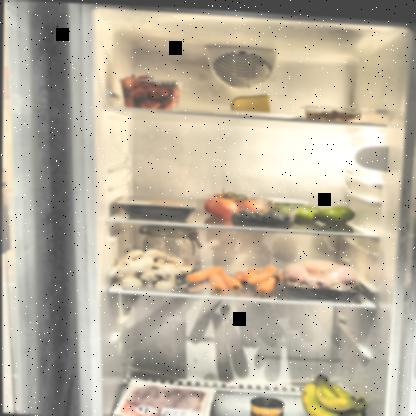banana: (295, 369, 370, 415)
beef: (117, 192, 202, 220)
blueberries: (228, 205, 295, 227)
carrot: (182, 258, 282, 294)
cheese: (228, 88, 274, 113)
chicken: (279, 254, 367, 299)
corn: (245, 391, 287, 415)
lime: (266, 197, 355, 225)
mushrooms: (115, 245, 192, 293)
shrimp: (306, 106, 361, 119)
strawberries: (120, 70, 180, 111)
tomato: (202, 183, 268, 219)
